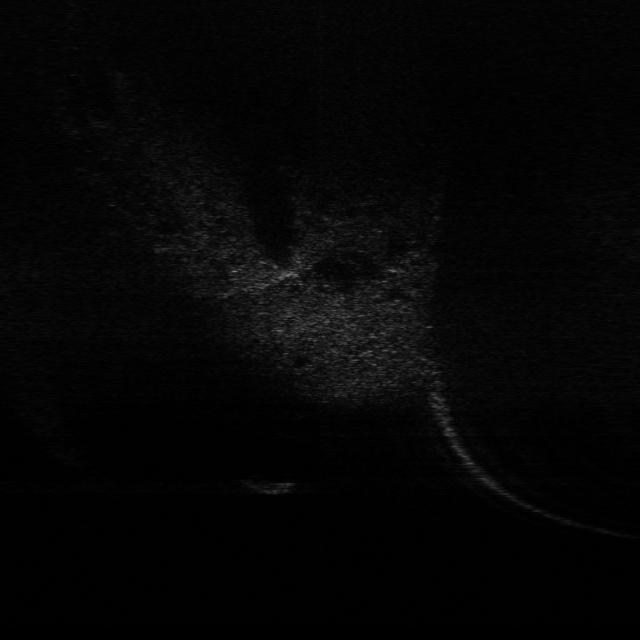cube: (240, 472, 298, 494)
